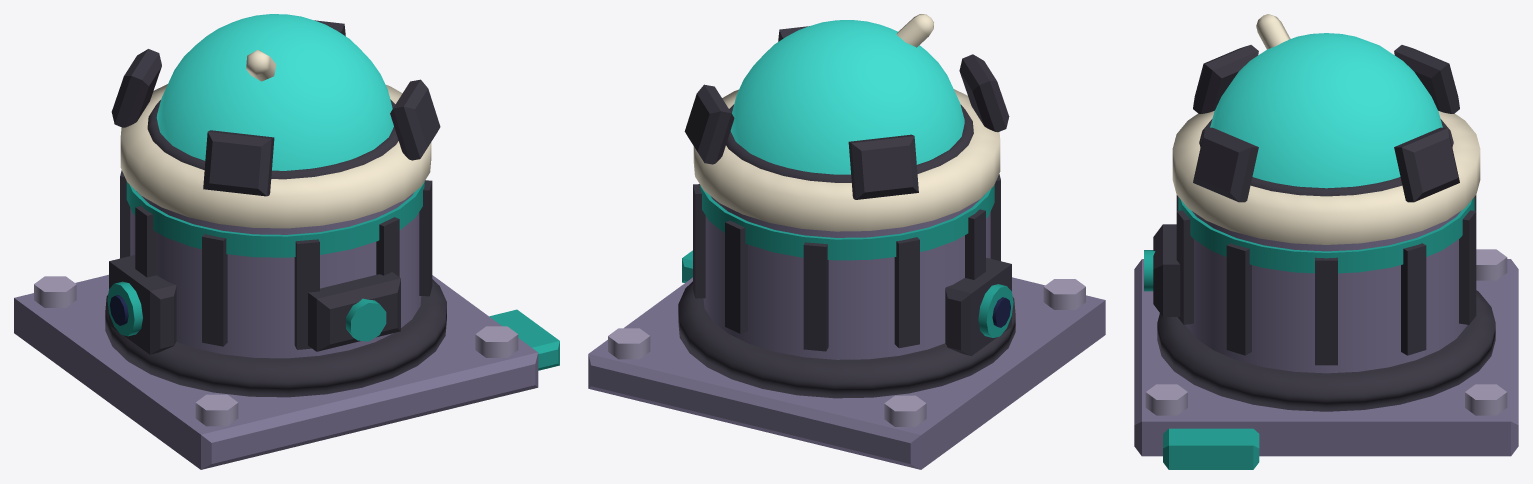
The model's file is wide_camera.glb.
3 renders of one model, left to right at view 1: azimuth 30°, elevation 25°; view 2: azimuth 150°, elevation 25°; view 3: azimuth 270°, elevation 25°, orthographic.
Visible parts, largest first — view 1: plate_purpleGrey, body_graphite, body_emissive, body_creamHull, plate_teal, plate_purpleGreyLight; view 2: plate_purpleGrey, body_graphite, body_emissive, body_creamHull, plate_teal, plate_purpleGreyLight; view 3: plate_purpleGrey, body_graphite, body_emissive, body_creamHull, plate_teal, plate_purpleGreyLight.
Boxes of the visible parts, bbox=[...] form: plate_purpleGrey: bbox=[14, 191, 538, 469]; body_graphite: bbox=[105, 20, 446, 397]; body_emissive: bbox=[156, 14, 393, 170]; body_creamHull: bbox=[120, 50, 431, 228]; plate_teal: bbox=[107, 181, 559, 370]; plate_purpleGreyLight: bbox=[34, 276, 518, 426]; plate_purpleGrey: bbox=[588, 195, 1105, 469]; body_graphite: bbox=[678, 26, 1015, 398]; body_emissive: bbox=[730, 20, 964, 174]; body_creamHull: bbox=[693, 14, 1000, 231]; plate_teal: bbox=[682, 185, 1013, 337]; plate_purpleGreyLight: bbox=[608, 279, 1085, 426]; plate_purpleGrey: bbox=[1134, 211, 1518, 456]; body_graphite: bbox=[1153, 45, 1495, 411]; body_emissive: bbox=[1210, 33, 1442, 188]; body_creamHull: bbox=[1172, 14, 1480, 244]; plate_teal: bbox=[1144, 197, 1474, 469]; plate_purpleGreyLight: bbox=[1145, 249, 1507, 415].
Size of the model in its own units: 0.221 by 0.1936 by 0.2.
